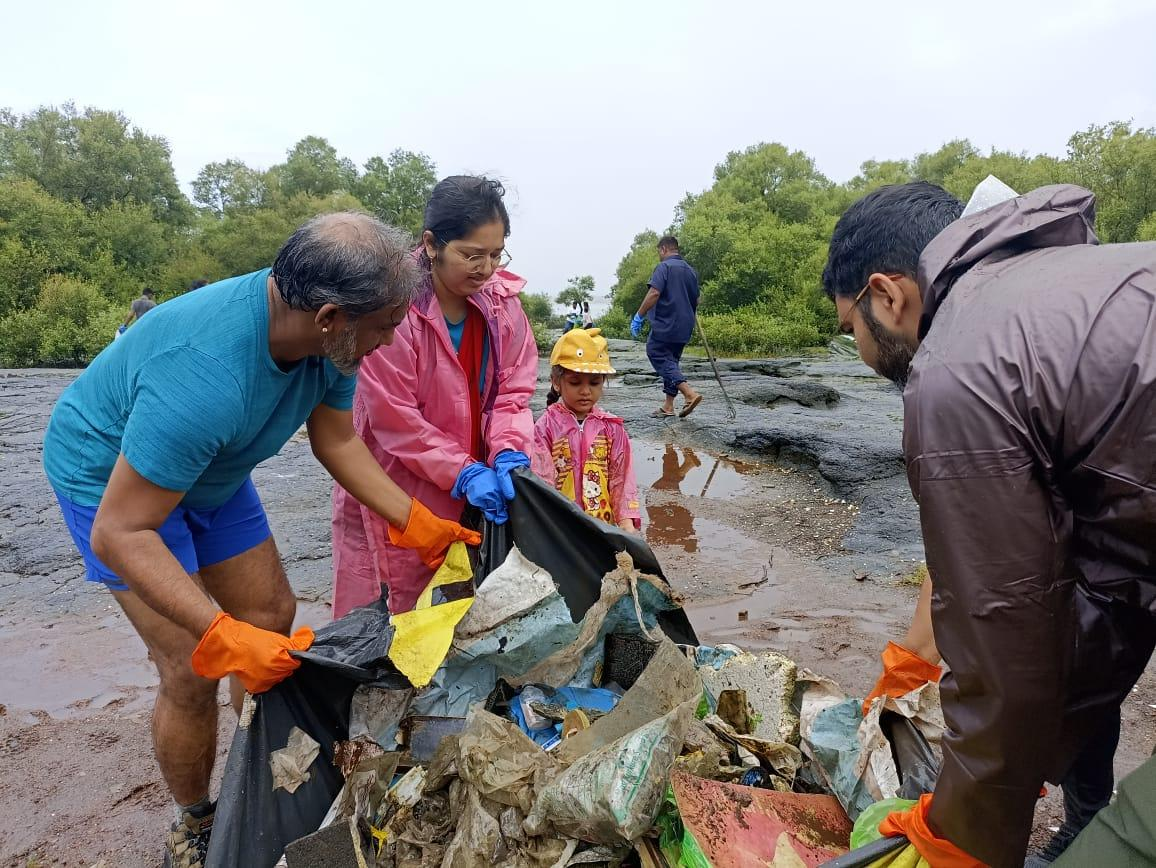trash: (402, 678, 827, 868)
